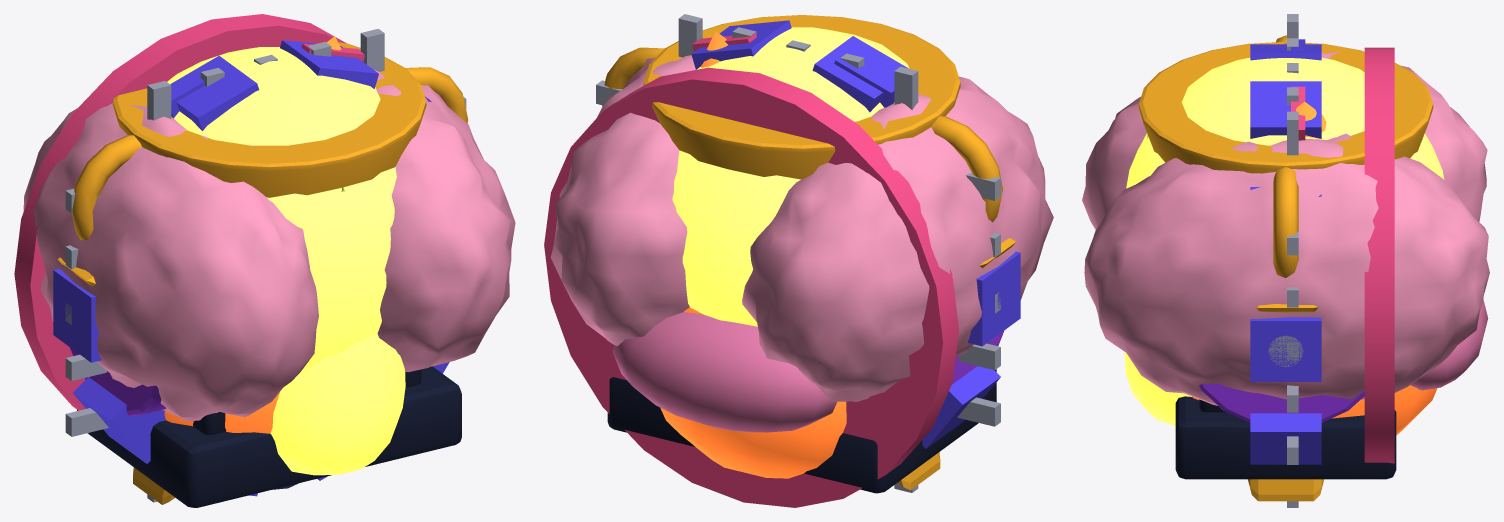
Rendered from world.glb.
3 views of the same model, side by side, from view 1: azimuth 30°, elevation 25°; view 2: azimuth 150°, elevation 25°; view 3: azimuth 270°, elevation 25° (orthographic). The views are drawn at different scales.
Parts seen in each view (by area): view 1: brain, trophy, bulb, flame, target, gear, chip, dumbbell, medal, star; view 2: brain, target, trophy, bulb, gear, flame, chip, medal, star; view 3: brain, trophy, target, gear, bulb, dumbbell, flame, chip, star, medal.
Part boxes in pixels (x1,y1,x2,y2): brain: (23,48,515,421); trophy: (72,42,468,507); bulb: (167,47,396,489); flame: (164,36,405,475); target: (14,14,346,410); gear: (53,40,449,496); chip: (65,28,466,502); dumbbell: (69,347,166,416); medal: (171,43,364,118); star: (57,257,175,504); brain: (550,55,1053,432); target: (544,67,959,507); trophy: (602,15,1002,493); bulb: (672,27,909,326); gear: (691,20,1020,448); flame: (660,31,846,478); chip: (596,14,1000,492); medal: (692,33,894,107); star: (897,238,1015,490); brain: (1082,43,1489,405); trophy: (1138,35,1433,479); target: (1364,47,1394,463); gear: (1250,44,1321,464); bulb: (1126,57,1444,188); dumbbell: (1199,335,1364,422); flame: (1124,101,1437,435); chip: (1287,14,1298,507); star: (1248,304,1323,501); medal: (1291,39,1305,140).
Bounding box in the file's own units: 2 × 2 × 1.91.
